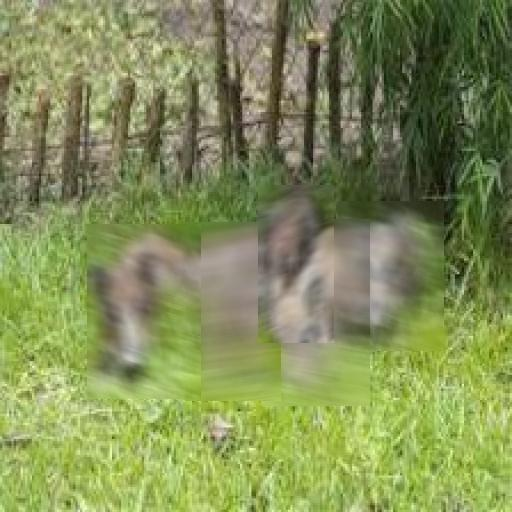Pig: (261, 219, 370, 406), (87, 224, 201, 399), (185, 222, 281, 401), (338, 201, 444, 351), (258, 185, 334, 343)
